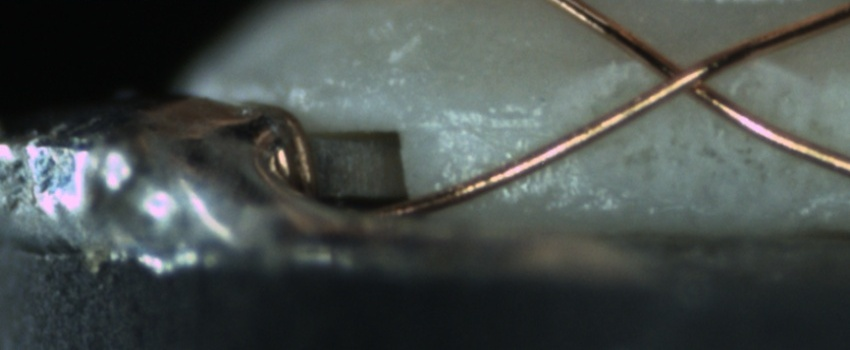CL: (631, 42, 730, 111)
DL: (433, 95, 567, 159)
TE: (256, 96, 326, 206)
